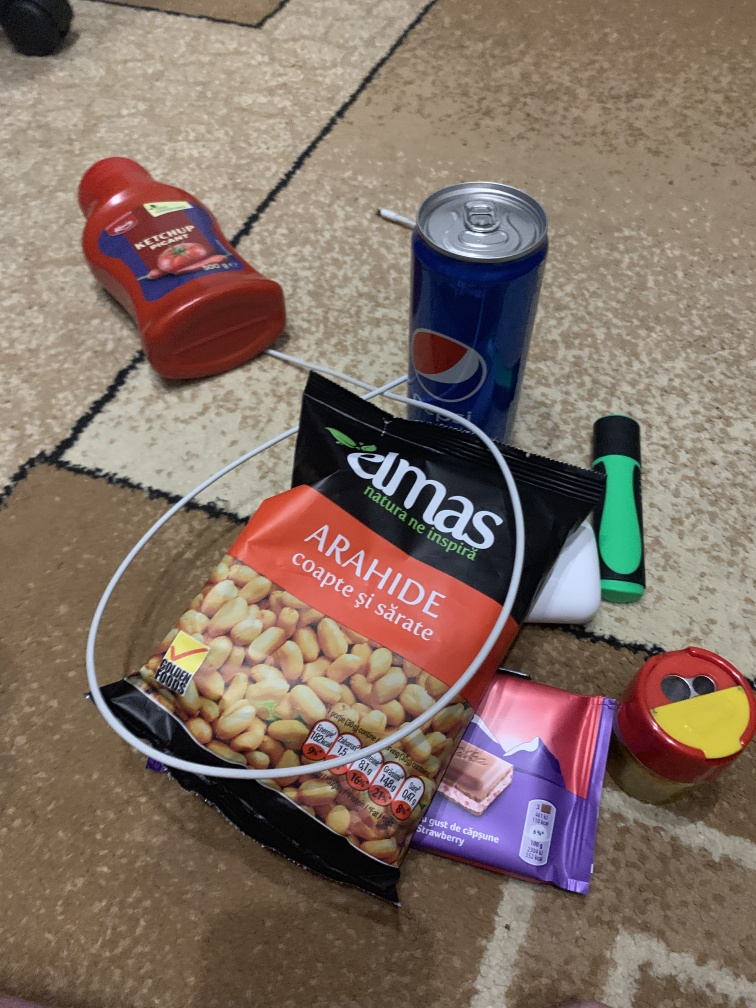ketchup: (60, 146, 298, 390)
milka: (421, 675, 618, 893)
peanuts: (114, 380, 609, 903)
pepsi: (407, 176, 550, 452)
